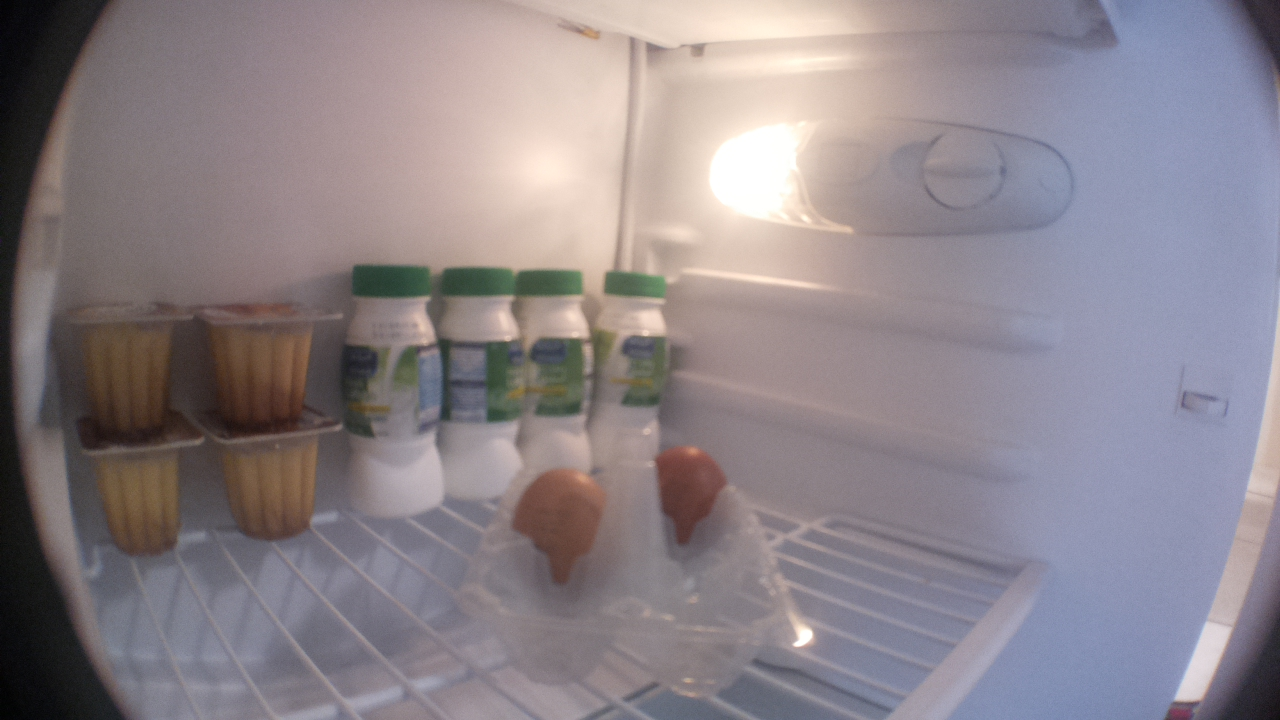caramel: (66, 418, 210, 564), (51, 291, 192, 438), (205, 416, 347, 552), (198, 294, 343, 424)
egg: (515, 468, 626, 586), (649, 443, 747, 563)
laban: (319, 259, 446, 518), (441, 258, 528, 522), (520, 259, 599, 483), (597, 262, 676, 468)
